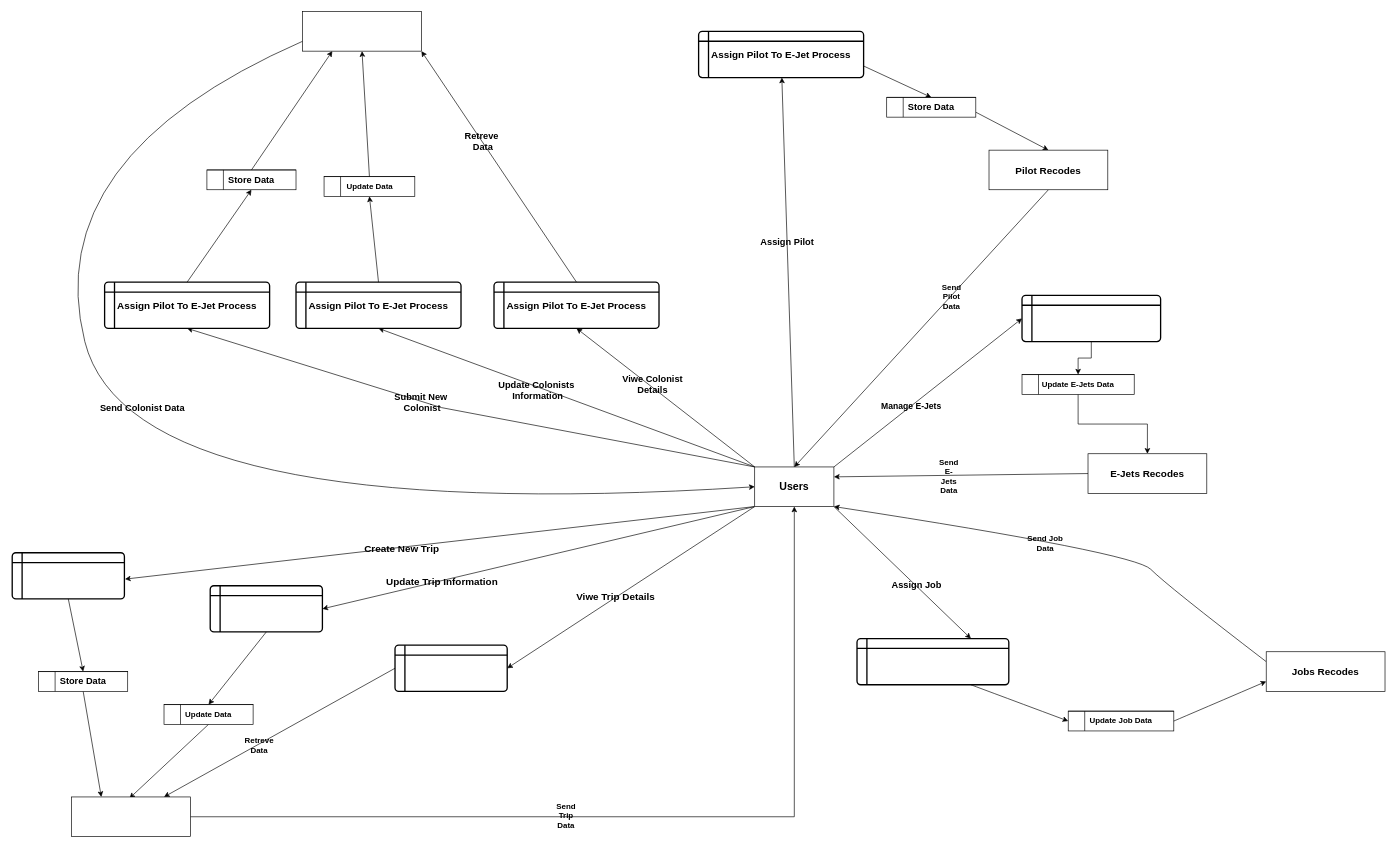
Some shapes in this 1397 by 848 pixel diagram are drawn without their labels. Here are the shapes that lost their labels. From the top down, the centre of each, then its label:
At pixel 361 31: "Colonist Recode".
At pixel 1091 318: "Manage E-Jets Proccess".
At pixel 68 575: "Add Trip Process".
At pixel 266 608: "Update Trip Process".
At pixel 451 668: "Viwe Trip Details Process".
At pixel 932 661: "Assign Jobs To Colonists Process".
At pixel 130 816: "Trip Recode".
